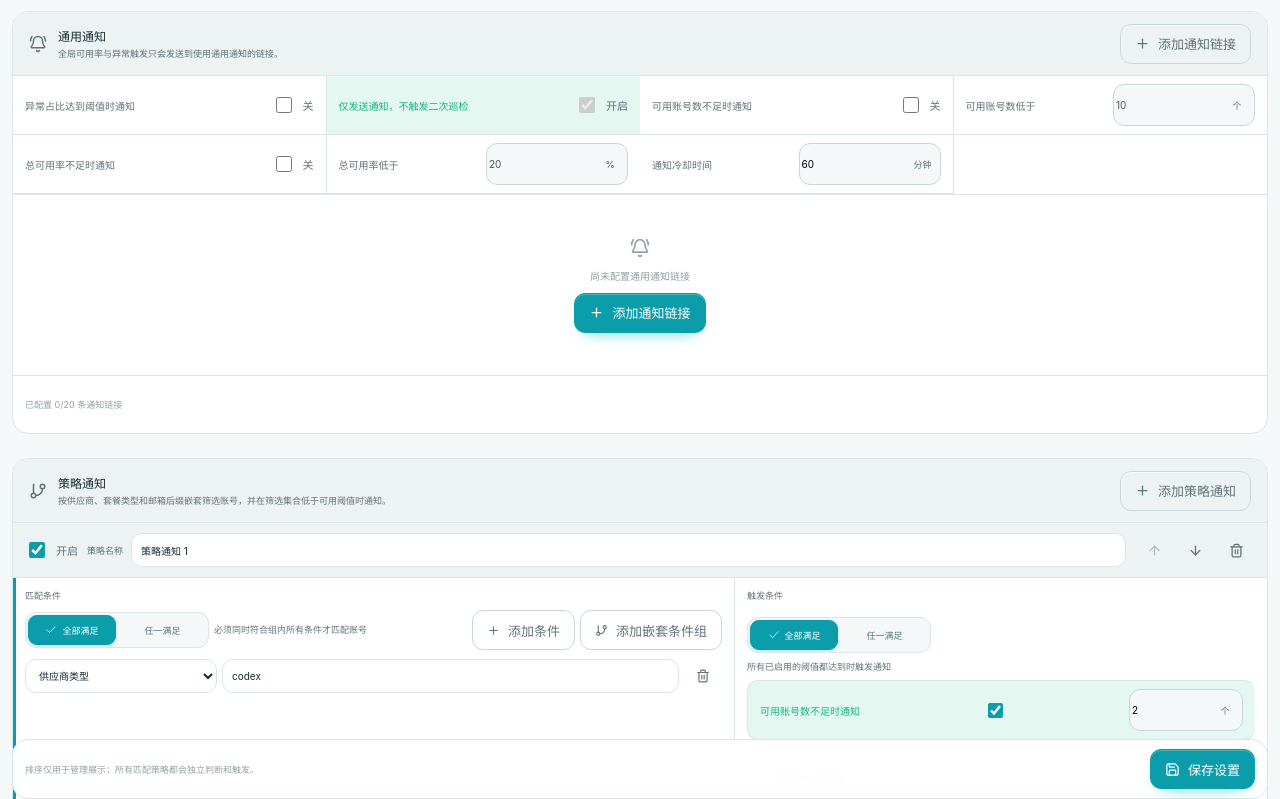
Scenario: ExternalNotificationSettings › normalizes unnamed policies, rejects duplicate names, and never exposes internal IDs
Expected: the field named "通知策略 1 名称" holds "策略通知 1", [131,533,1126,567]
Click the button named "删除通知策略".
click(1236, 550)  # box [1217,531,1255,569]
(page scrolled)
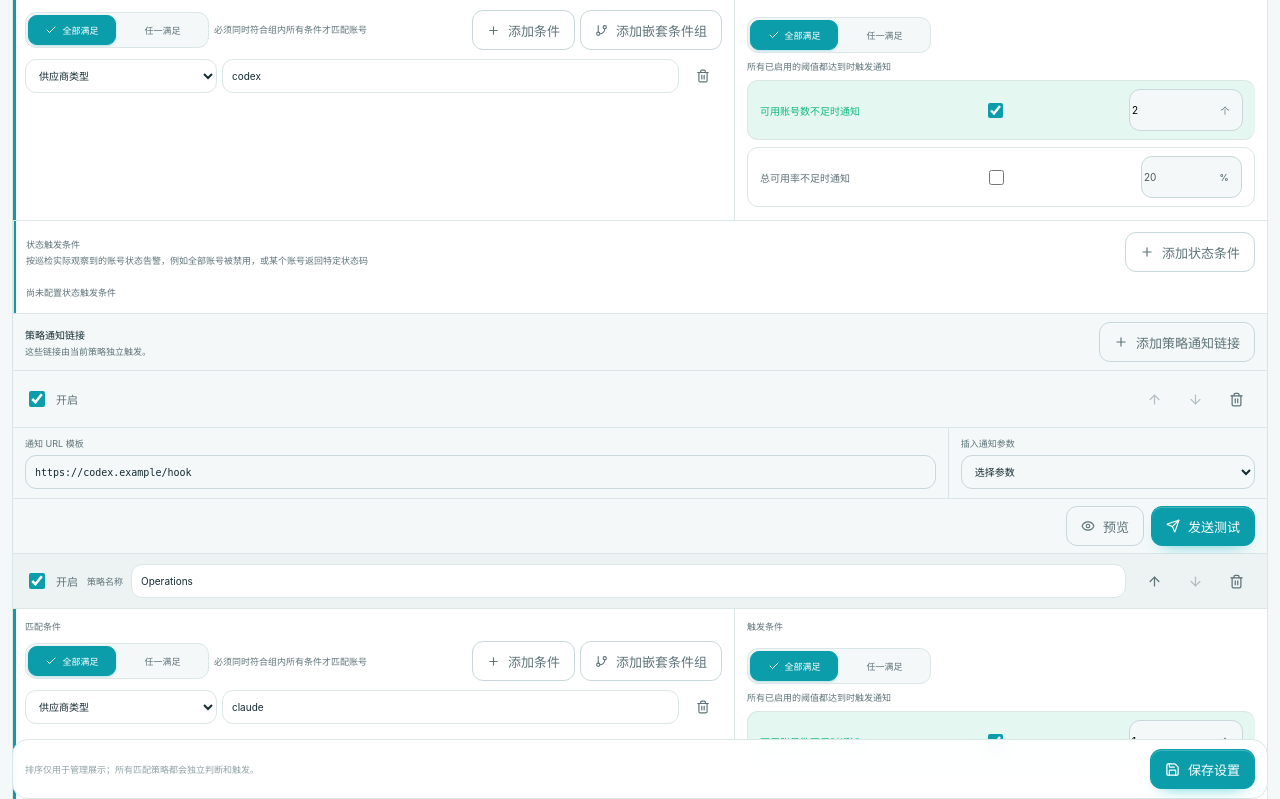
Click the button named "删除通知链接 1".
click(1236, 399)  # box [1217,380,1255,418]
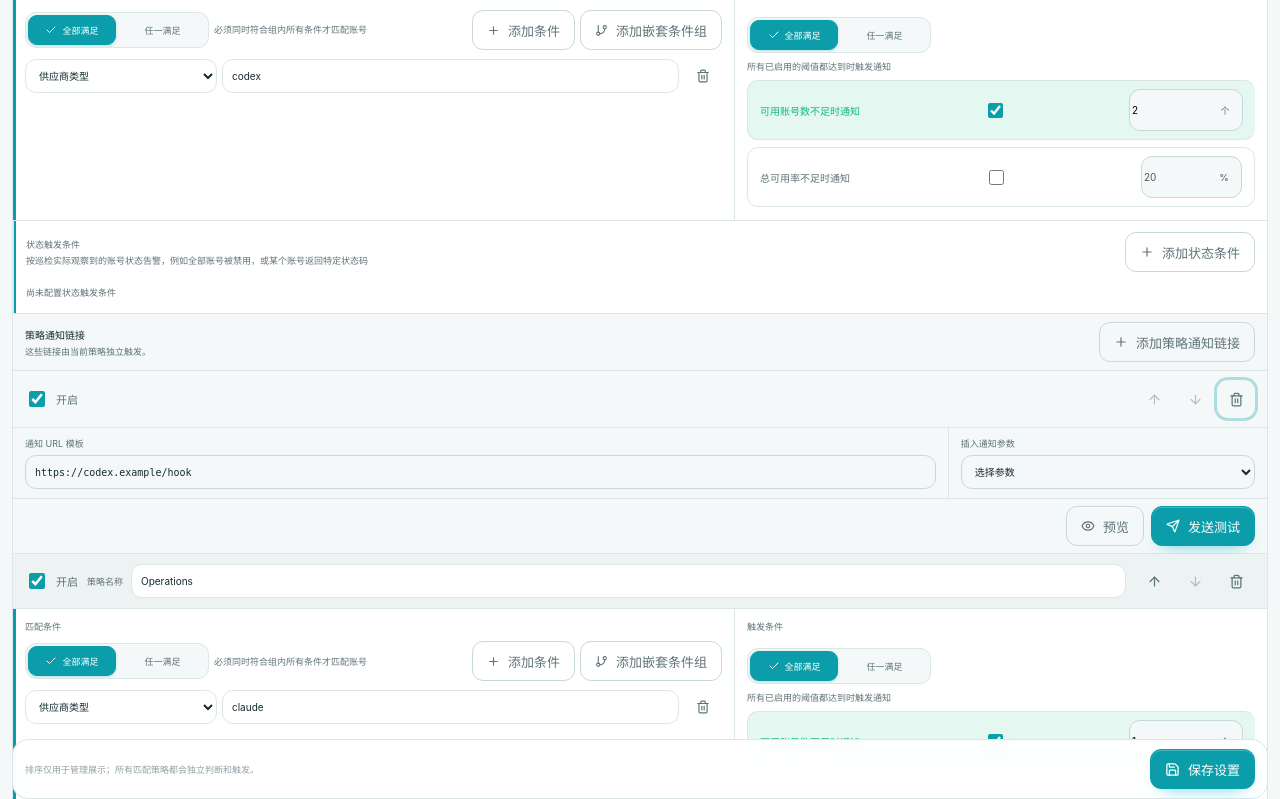
Replace the text in the field named "通知策略 2 名称" with "策略通知 1" at (628, 581), box [131,564,1126,598]
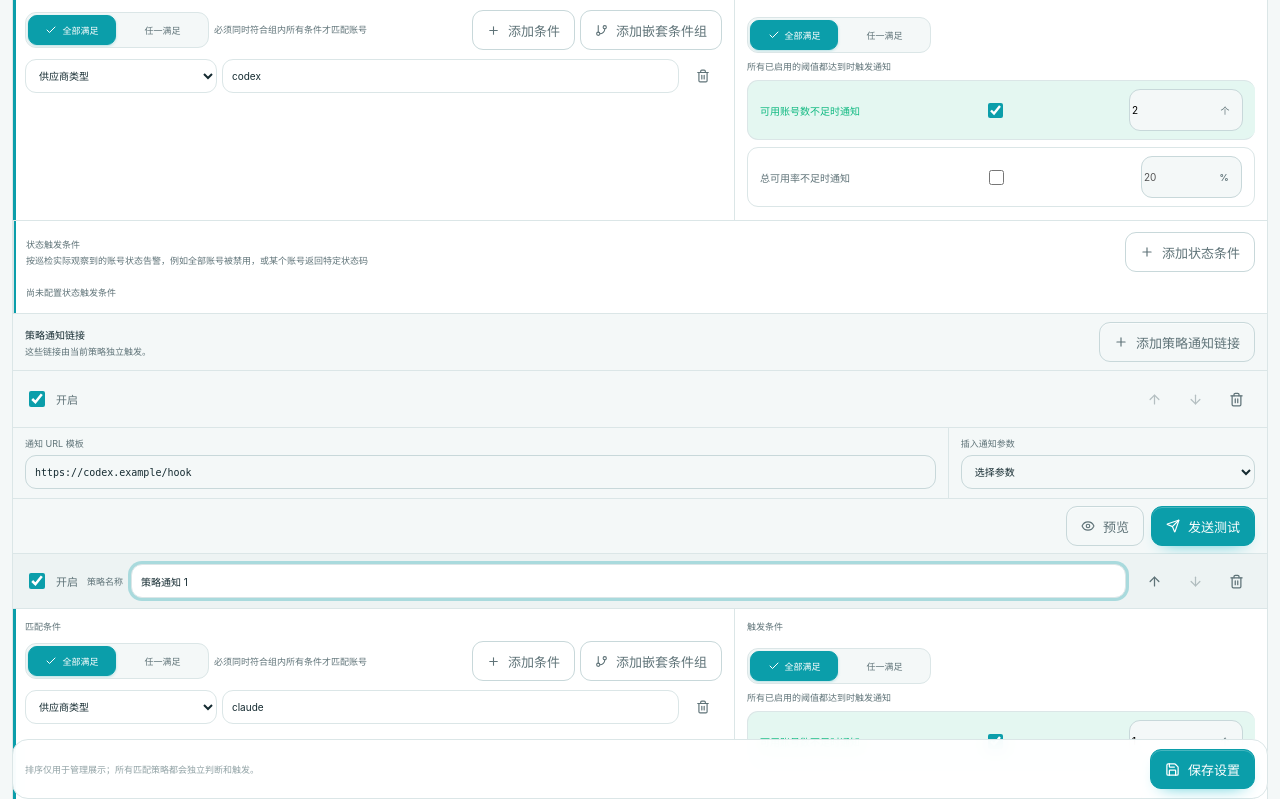
Click the button "保存设置".
click(1202, 769)  # box [1150,749,1255,789]
(page scrolled)
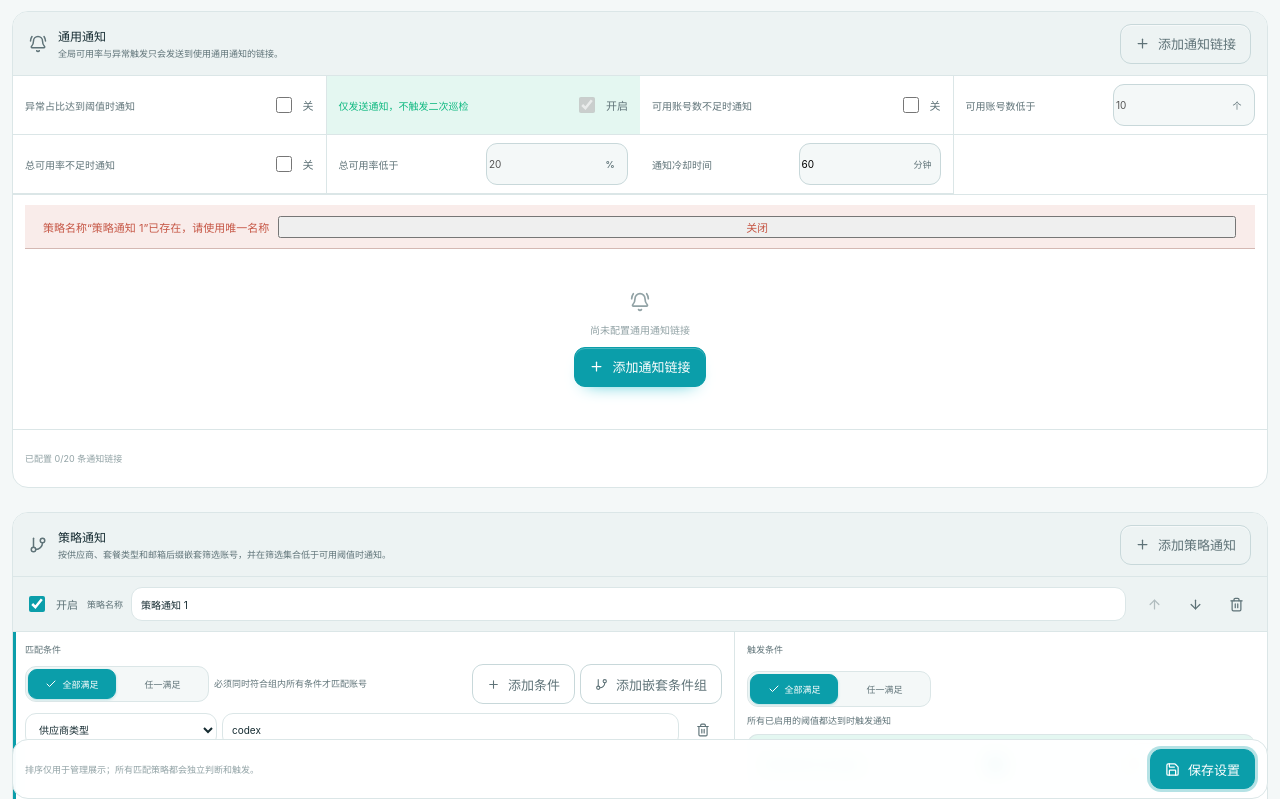
Expected: the message "策略名称“策略通知 1”已存在，请使用唯一名称 关闭" is shown, [25,205,1255,249]
